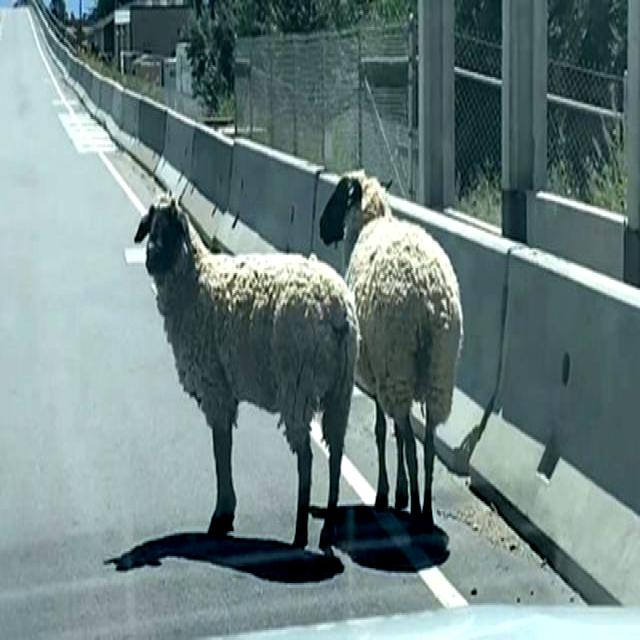sheep: (133, 192, 360, 565), (317, 172, 461, 525)
